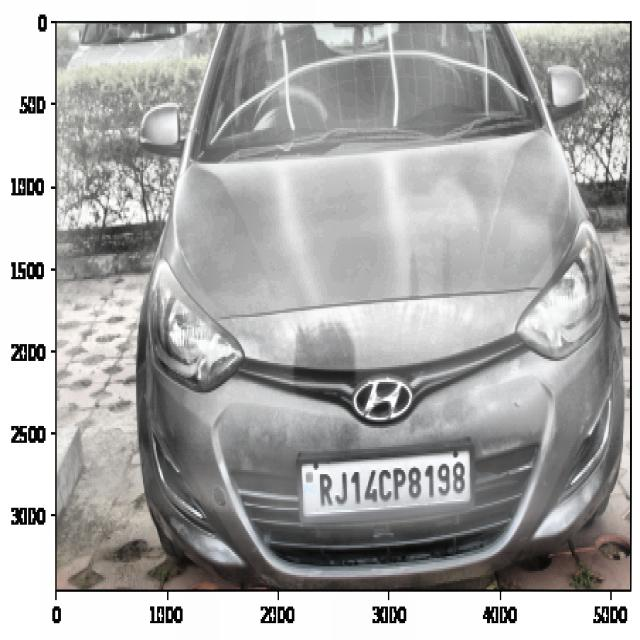license_plate: (309, 451, 470, 517)
